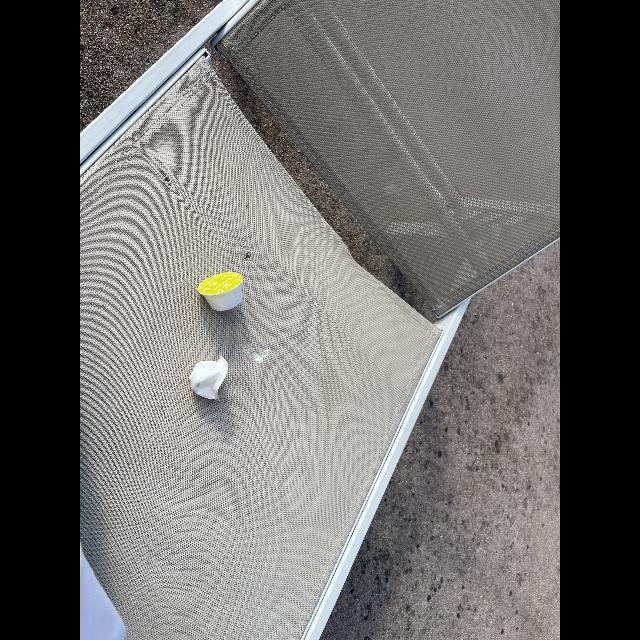damaged_capsule: (188, 354, 236, 406)
intact_capsule: (196, 270, 252, 318)
